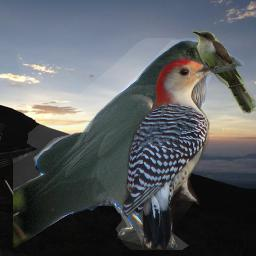Crow: (13, 38, 245, 250)
Cuckoo: (191, 29, 256, 114)
Woodpecker: (122, 57, 235, 249)
